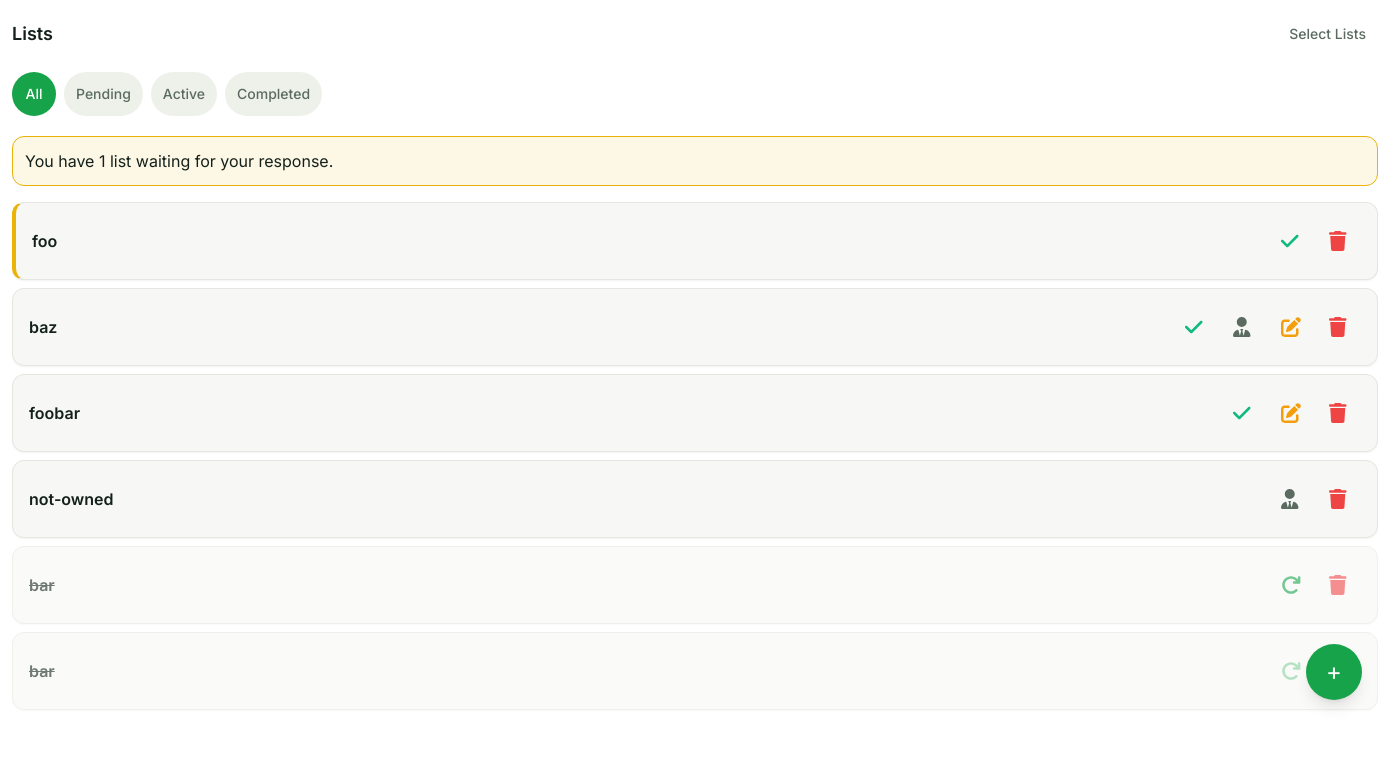
Test: ListsContainer › filters to only active lists when Active chip is clicked
This screenshot has width=1390, height=780.
Click the button with test id "filter-active" at (184, 94), box [151,72,217,116]
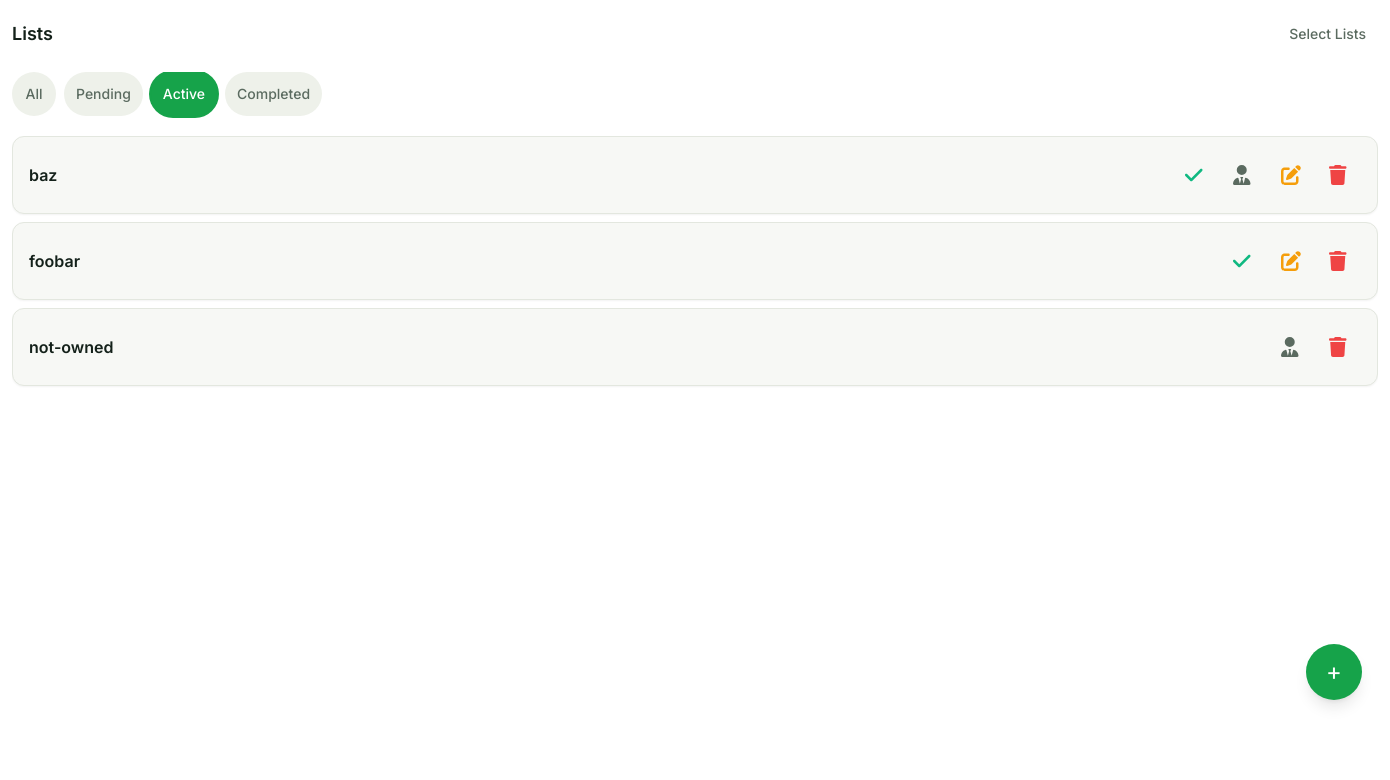
Expected: the button with test id "list-id5" is shown, [12,136,1378,214]
Expected: the button with test id "list-id-pending" is gone
Expected: the button with test id "list-id2" is gone
